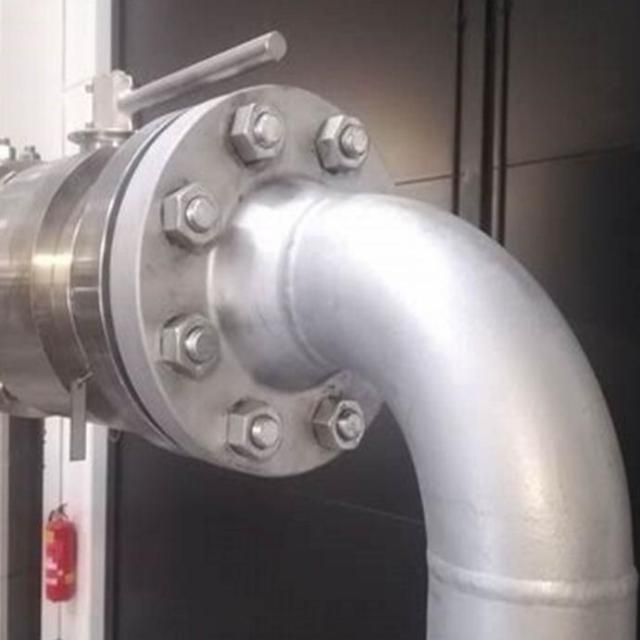bolt nut: (157, 179, 226, 253), (157, 306, 225, 379), (221, 394, 287, 463), (228, 95, 291, 166), (312, 107, 373, 177), (311, 392, 368, 456)
